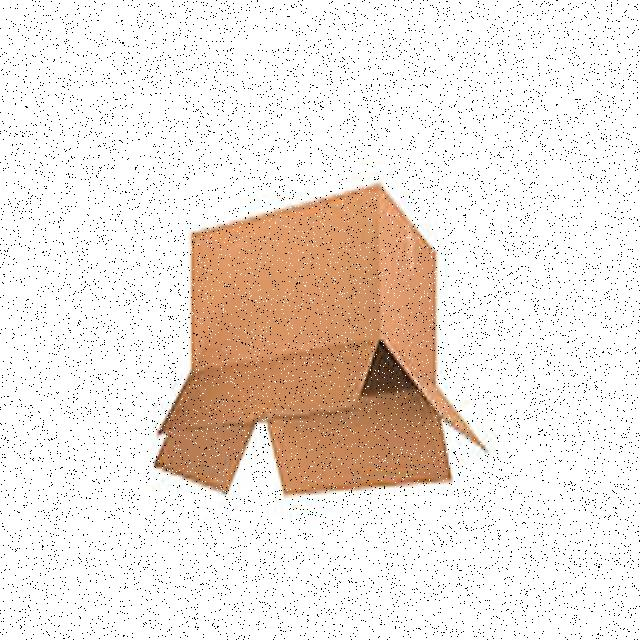defect: (156, 182, 489, 501)
